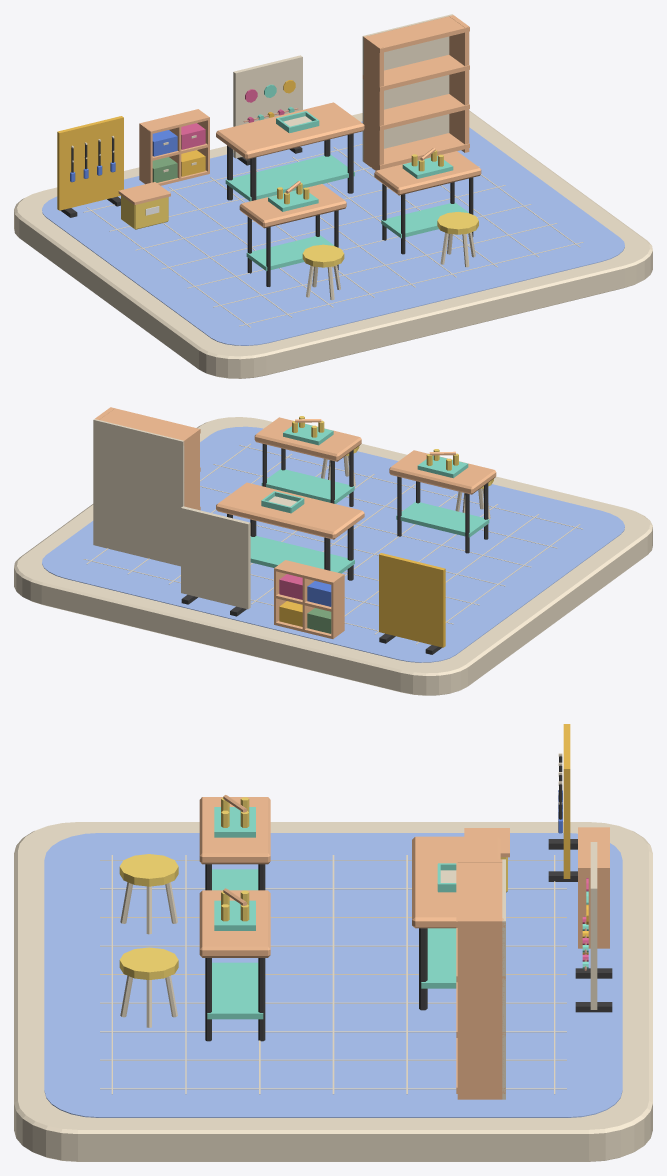
The model's file is room.fbx.
3 renders of one model, top to bottom at view 1: azimuth 30°, elevation 25°; view 2: azimuth 150°, elevation 25°; view 3: azimuth 270°, elevation 25°, orthographic. The views are drawn at different scales.
Visible parts, largest first — view 1: COM-02 Floor Surface, COM-01 Rounded Base Direct, Panel, Back, Worktop.002, Panel.001, Lower shelf.002, Side, Worktop.001, Worktop, Side.001, Shelf.003 (+17 smaller); view 2: COM-02 Floor Surface, COM-01 Rounded Base Direct, Back, Panel.001, Panel, Worktop.002, Worktop, Worktop.001, Lower shelf.002, Lower shelf, Lower shelf.001, Shelf.003 (+9 smaller); view 3: COM-02 Floor Surface, COM-01 Rounded Base Direct, Side.001, Worktop.002, Worktop, Worktop.001, Shelf.003, Lower shelf.001, Cubbies divider.002, Lower shelf.002, Seat, Seat.001 (+15 smaller).
Part boxes in pixels (x1,y1,x2,y2): COM-02 Floor Surface: (42, 121, 624, 345); COM-01 Rounded Base Direct: (14, 110, 652, 378); Panel: (57, 116, 123, 210); Back: (362, 14, 452, 161); Worktop.002: (216, 102, 364, 159); Panel.001: (233, 55, 302, 158); Lower shelf.002: (225, 154, 354, 201); Side: (364, 35, 383, 170); Worktop.001: (374, 151, 481, 195); Worktop: (239, 184, 346, 228); Side.001: (449, 15, 469, 152); Shelf.003: (364, 16, 469, 53); COM-02 Floor Surface: (42, 426, 624, 662); COM-01 Rounded Base Direct: (14, 417, 652, 695); Back: (93, 419, 184, 566); Panel.001: (181, 506, 250, 609); Panel: (379, 553, 445, 647); Worktop.002: (216, 482, 364, 539); Worktop: (389, 450, 496, 494); Worktop.001: (254, 417, 361, 461); Lower shelf.002: (250, 536, 354, 573); Lower shelf: (396, 501, 489, 537); Lower shelf.001: (261, 469, 354, 503); Shelf.003: (100, 407, 200, 445); COM-02 Floor Surface: (44, 833, 622, 1117); COM-01 Rounded Base Direct: (14, 822, 652, 1161); Side.001: (457, 918, 504, 1099); Worktop.002: (412, 836, 500, 928); Worktop: (199, 797, 270, 864); Worktop.001: (199, 890, 270, 957); Shelf.003: (456, 859, 505, 927); Lower shelf.001: (207, 962, 263, 1019); Cubbies divider.002: (578, 868, 609, 948); Lower shelf.002: (421, 928, 456, 988); Seat: (119, 854, 178, 886); Seat.001: (119, 947, 178, 979).
Bounding box in the file's own units: 600 × 190 × 520.
